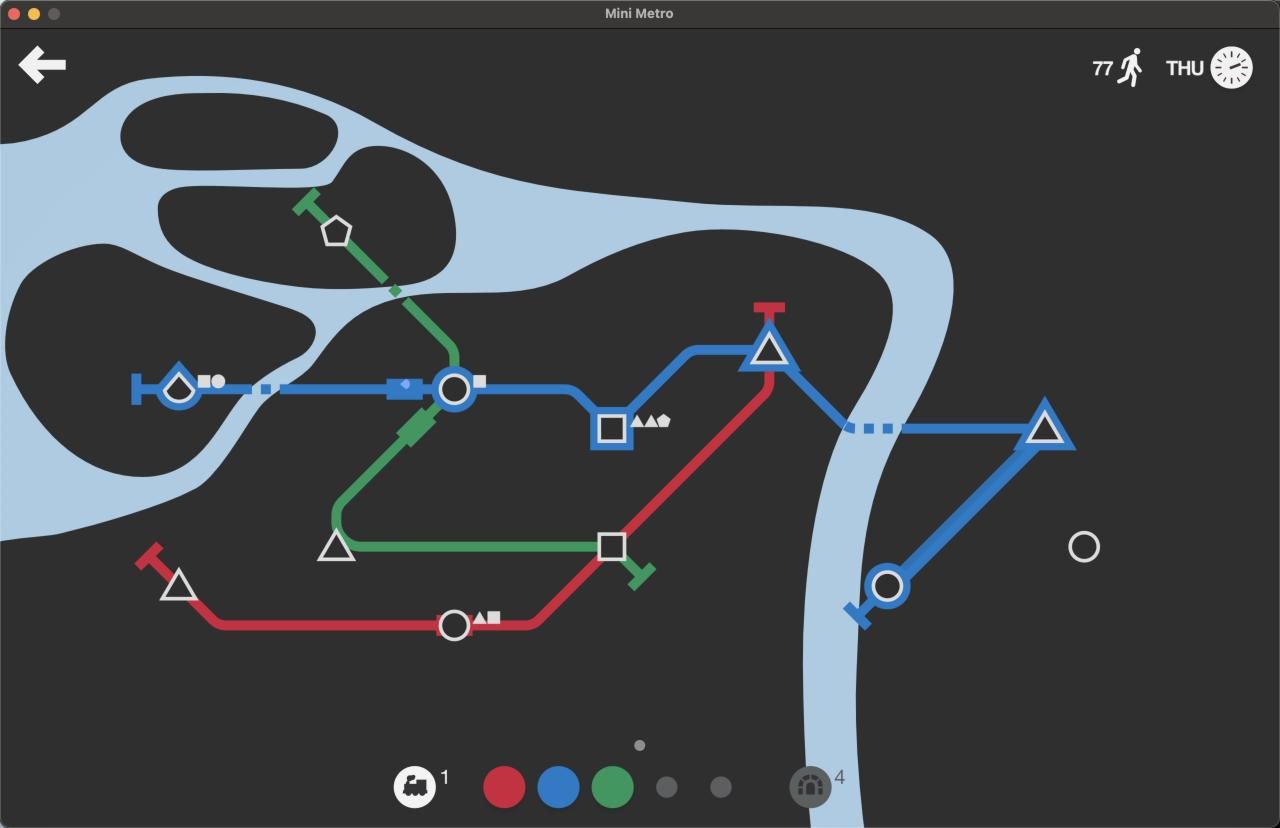CIRCLE: (436, 608, 472, 642), (871, 569, 904, 603), (1068, 530, 1101, 563), (439, 373, 471, 405)
GEM: (162, 370, 196, 405), (320, 215, 353, 248)
SQUARE: (596, 413, 628, 445), (596, 531, 628, 562)
TRIANGLE: (1025, 407, 1066, 446), (316, 528, 357, 564), (749, 329, 788, 366), (159, 567, 198, 602)
